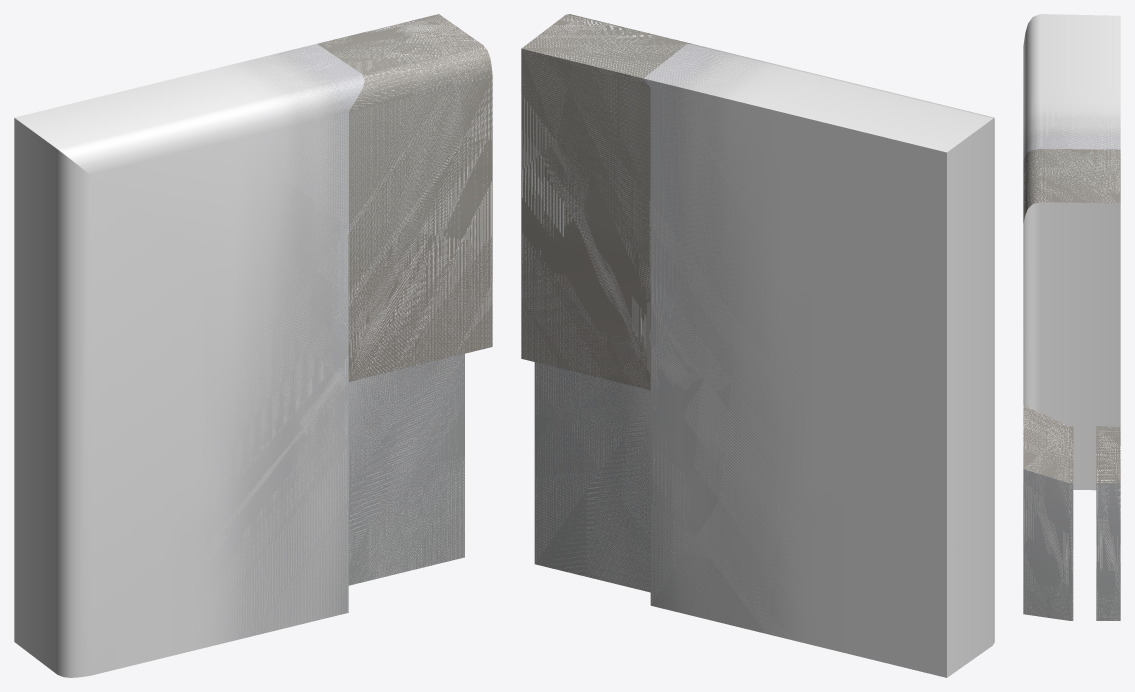
Rendered from original-26.obj.
3 views of the same model, side by side, from view 1: azimuth 30°, elevation 25°; view 2: azimuth 150°, elevation 25°; view 3: azimuth 270°, elevation 25° (orthographic). The views are drawn at different scales.
Visible parts, largest first — view 1: LT_21_TL1/LT_21_TL/mesh20/mesh20-geometry#mesh20-geometry; view 2: LT_21_TL1/LT_21_TL/mesh20/mesh20-geometry#mesh20-geometry; view 3: LT_21_TL1/LT_21_TL/mesh20/mesh20-geometry#mesh20-geometry.
Boxes of the visible parts, x1=… form: LT_21_TL1/LT_21_TL/mesh20/mesh20-geometry#mesh20-geometry: x1=14, y1=14, x2=492, y2=677; LT_21_TL1/LT_21_TL/mesh20/mesh20-geometry#mesh20-geometry: x1=521, y1=14, x2=994, y2=677; LT_21_TL1/LT_21_TL/mesh20/mesh20-geometry#mesh20-geometry: x1=1023, y1=14, x2=1120, y2=620.
Size of the model in its own units: 0.124 by 0.1462 by 0.0271.
